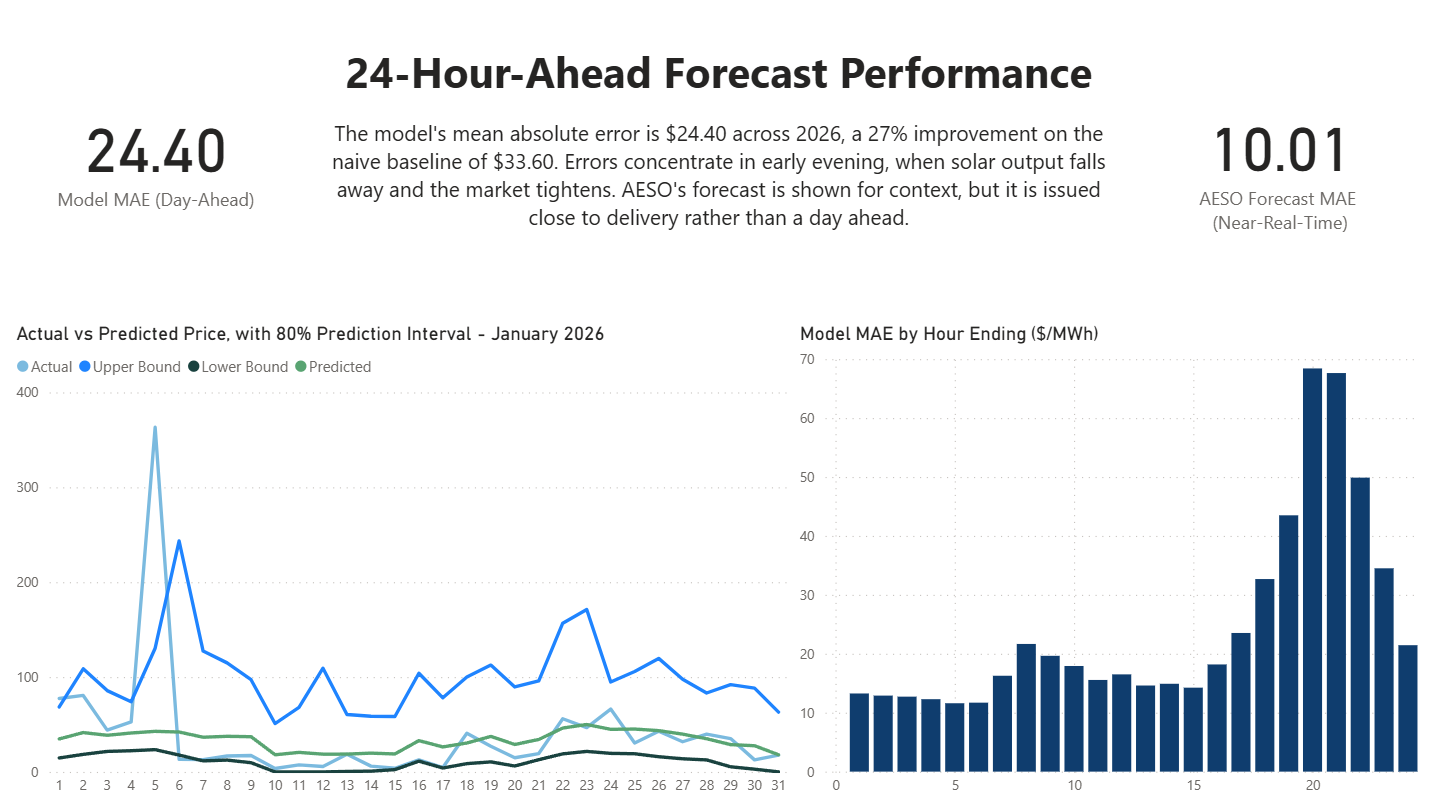

The page's visual inventory and layout, read from the dashboard file:
{"tool":"powerbi","page":{"name":"Forecast Performance","canvas":[1280,720],"ordinal":1},"visuals":[{"type":"card","fields":{"Values":["fact_hourly.MAE Model"]},"box":[0,1.2,281,279.8],"z":0},{"type":"card","fields":{"Values":["fact_hourly.MAE AESO"]},"box":[1000.2,0,279.8,279.8],"z":1000},{"type":"lineChart","title":"Actual vs Predicted Price, with 80% Prediction Interval - January 2026","fields":{"Y":["Avg(fact_hourly.pool_price)","Avg(fact_hourly.pred_high)","Avg(fact_hourly.pred_low)","Avg(fact_hourly.pred_price)"],"Category":["fact_hourly.time_mt.Variation.Date Hierarchy.Day"]},"box":[10.8,289.4,696.4,429.9],"z":2000},{"type":"clusteredColumnChart","title":"Model MAE by Hour Ending ($/MWh)","fields":{"Y":["fact_hourly.MAE Model"],"Category":["fact_hourly.Hour Ending"]},"box":[707.2,289.4,559.5,429.9],"z":3000},{"type":"textbox","box":[281,1.2,719.2,279.8],"z":4000}]}

Visuals, with their boxes in screenshot pixels (x1, y1, x2, y2), scaled from the page's 1280x720 canvas onto the 1431x802 screenshot:
card - fact_hourly.MAE Model: 0,1,314,313
card - fact_hourly.MAE AESO: 1118,0,1430,312
"Actual vs Predicted Price, with 80% Prediction Interval - January 2026" lineChart: 12,322,791,801
"Model MAE by Hour Ending ($/MWh)" clusteredColumnChart: 791,322,1416,801
textbox: 314,1,1118,313
